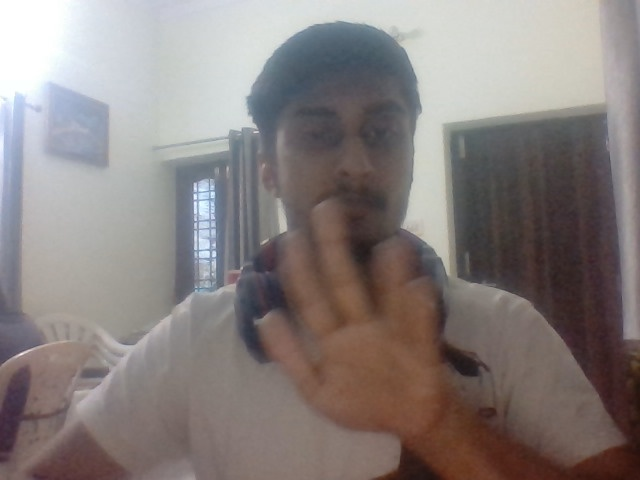LiveLong: (259, 200, 439, 437)
